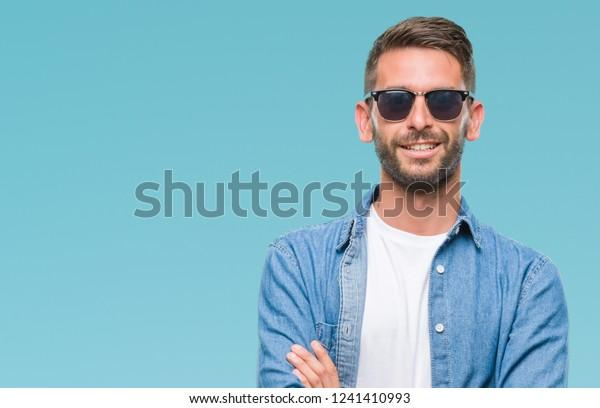sunglasses: (364, 87, 477, 122)
